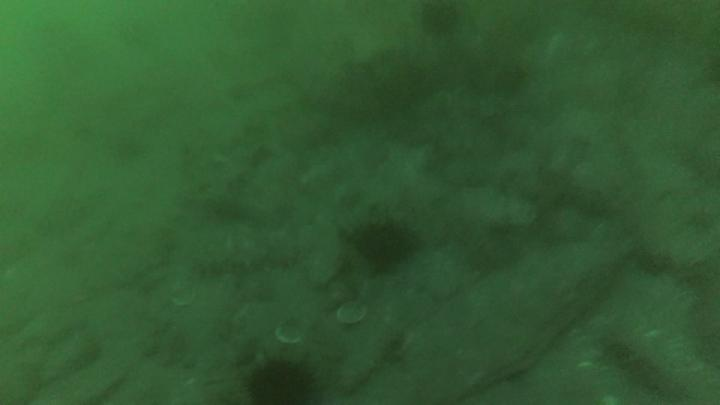echinus: (249, 363, 310, 405), (357, 225, 414, 269), (422, 4, 457, 37)
holothurian: (194, 244, 307, 276)
